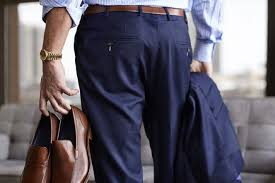F_belt: (81, 2, 196, 21)
F_dress pants: (72, 15, 201, 183)
